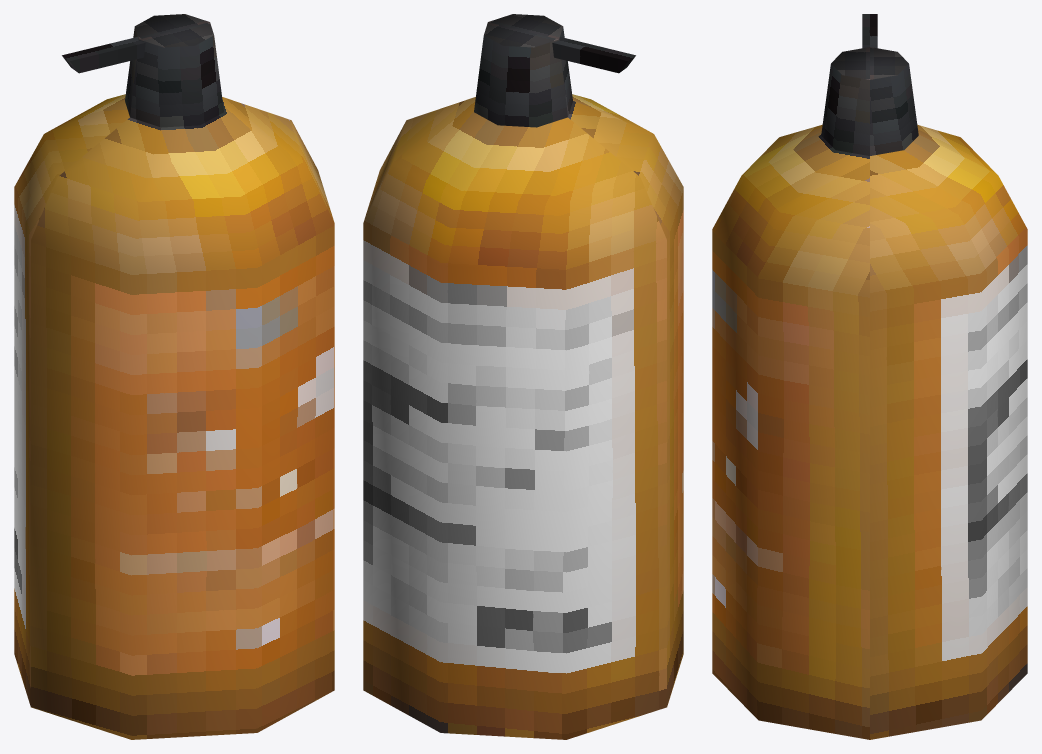
Rendered from Shampoo001.glb.
3 views of the same model, side by side, from view 1: azimuth 30°, elevation 25°; view 2: azimuth 150°, elevation 25°; view 3: azimuth 270°, elevation 25° (orthographic). The views are drawn at different scales.
Parts seen in each view (by area): view 1: shampoo.001; view 2: shampoo.001; view 3: shampoo.001.
Boxes of the visible parts, x1,y1,x2,y2 form: shampoo.001: (14,14,334,739); shampoo.001: (363,14,683,739); shampoo.001: (712,14,1027,739).
Bounding box in the file's own units: 0.0965 × 0.2059 × 0.0965.
Materials: 1 (1 with a texture image).
